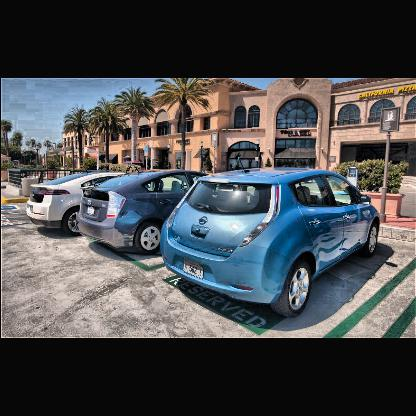Nissan Leaf Hatchback 2012: (160, 169, 382, 319)
